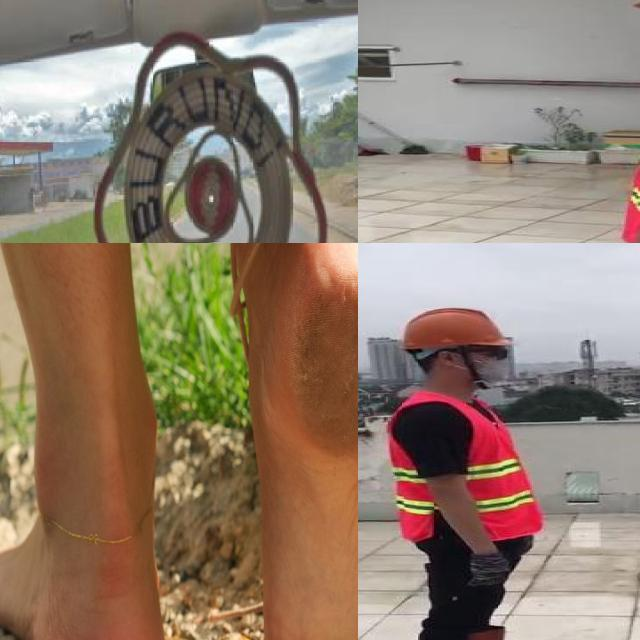Barefoots: (258, 243, 358, 640), (0, 489, 165, 640)
face_mask: (463, 343, 515, 382)
glasses: (468, 342, 514, 362)
hand_glove: (460, 551, 511, 588)
head_helmet: (402, 304, 516, 351)
person: (372, 304, 562, 640)
vest: (379, 391, 546, 539)
